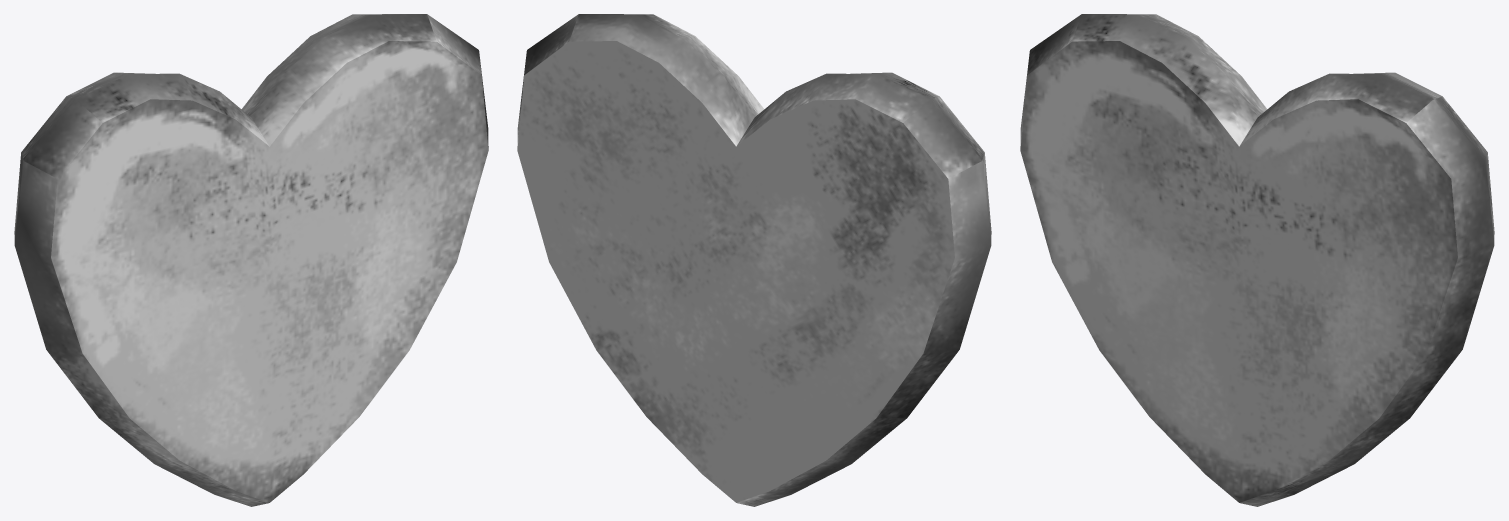
File: heart.fbx
3 views of the same model, side by side, from view 1: azimuth 30°, elevation 25°; view 2: azimuth 150°, elevation 25°; view 3: azimuth 330°, elevation 25° (orthographic).
Visible parts, largest first — view 1: HEART_mesh:HEART; view 2: HEART_mesh:HEART; view 3: HEART_mesh:HEART.
Part boxes in pixels (x1=…): HEART_mesh:HEART: x1=14, y1=14, x2=488, y2=506; HEART_mesh:HEART: x1=517, y1=14, x2=991, y2=506; HEART_mesh:HEART: x1=1020, y1=14, x2=1494, y2=506.
Bounding box in the file's own units: 1.47 × 1.37 × 0.1966.
